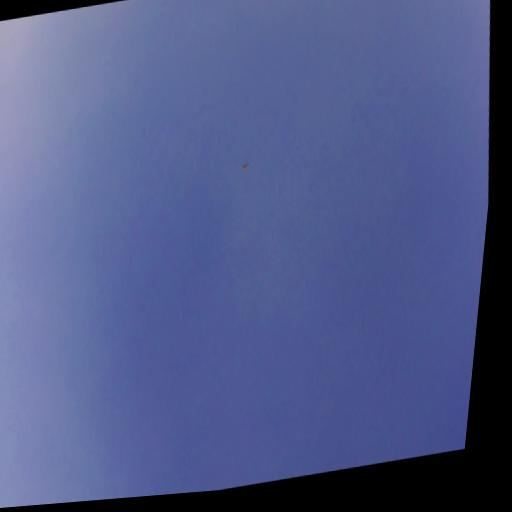drones: (240, 160, 250, 174)
